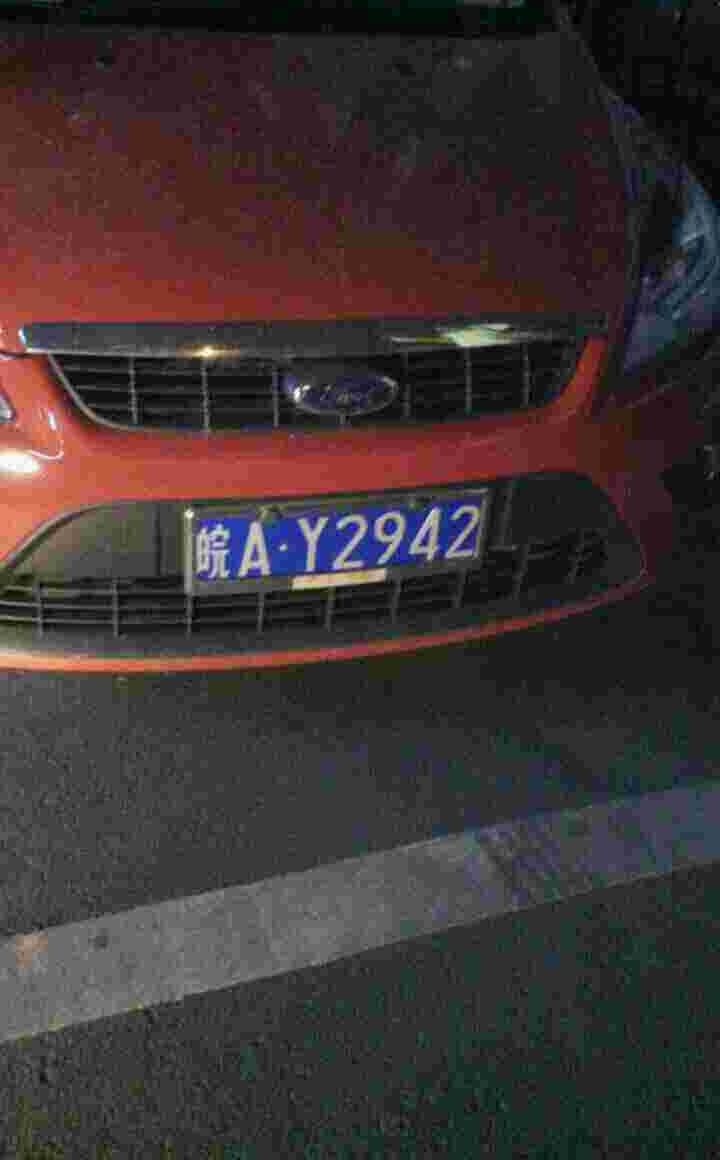license_plate: (194, 494, 496, 587)
